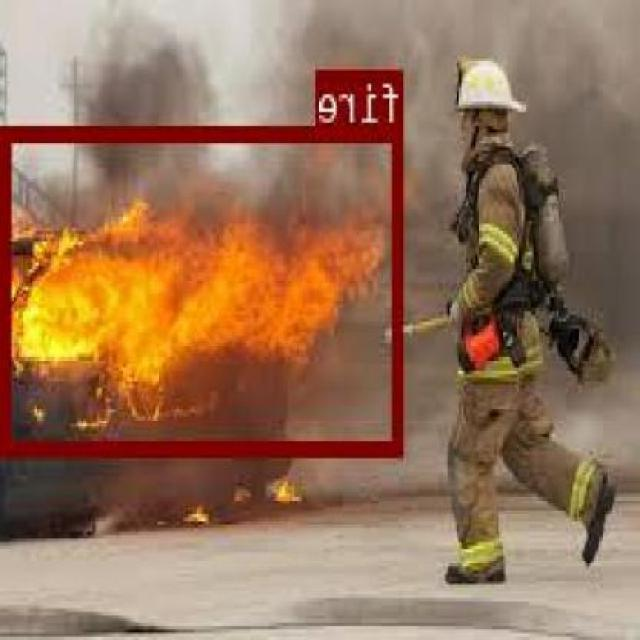Fire: (3, 124, 406, 452)
